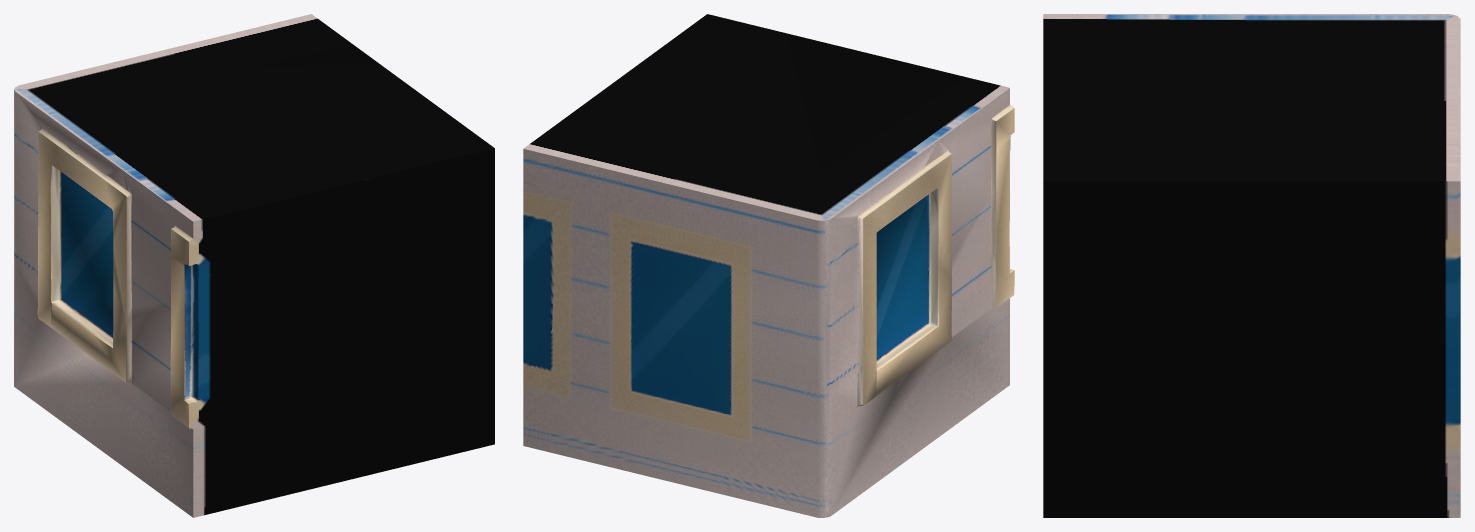
File: 7-upper-walls-back-left.fbx
3 views of the same model, side by side, from view 1: azimuth 30°, elevation 25°; view 2: azimuth 150°, elevation 25°; view 3: azimuth 270°, elevation 25° (orthographic). The views are drawn at different scales.
Visible parts, largest first — view 1: upper-walls-back-left; view 2: upper-walls-back-left; view 3: upper-walls-back-left.
Boxes of the visible parts, box(x1,y1,x2,y2) form: upper-walls-back-left: box(14, 14, 494, 517); upper-walls-back-left: box(523, 14, 1014, 517); upper-walls-back-left: box(1043, 14, 1460, 517).
Size of the model in its own units: 6769 by 6252 by 7018.
1 material, 1 textured.
